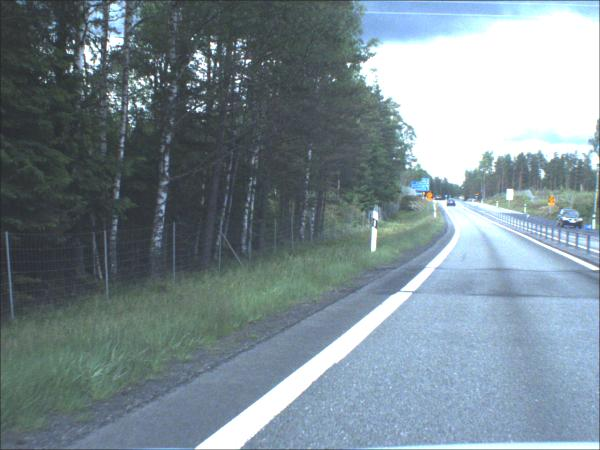70_SIGN: (427, 193, 434, 200), (549, 198, 555, 204), (423, 193, 426, 197), (476, 194, 479, 198)
